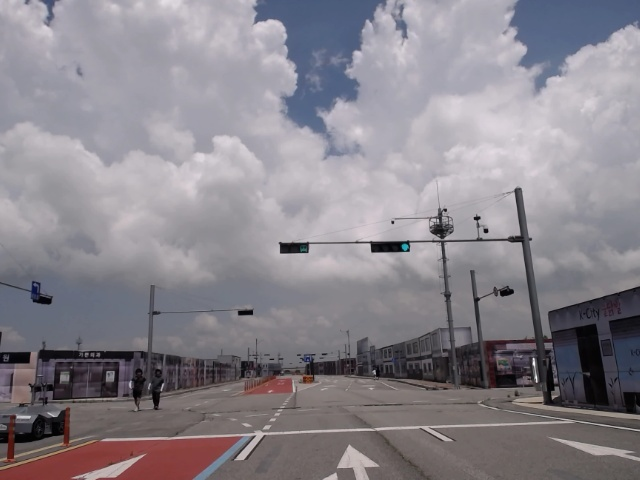straight_green_4: (369, 242, 413, 254)
